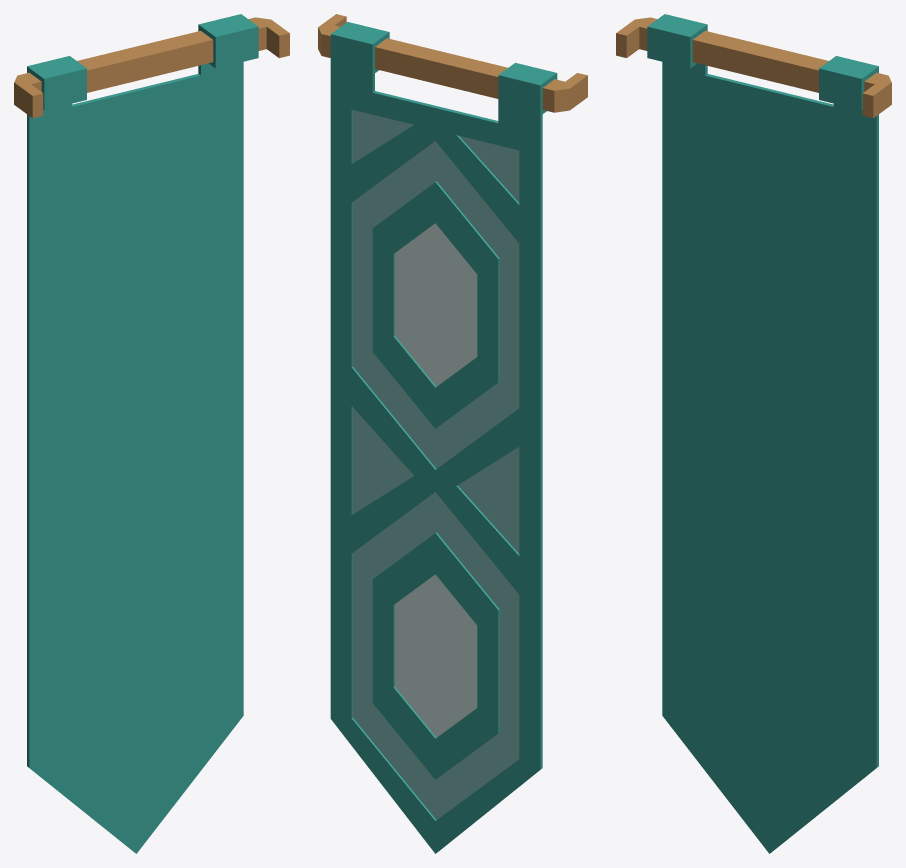
Rendered from Prop_Flag_3.fbx.
The picture shows the model from 3 angles, left to right: view 1: azimuth 30°, elevation 25°; view 2: azimuth 150°, elevation 25°; view 3: azimuth 330°, elevation 25°; orthographic projection. The views are drawn at different scales.
Parts seen in each view (by area): view 1: object2, object1; view 2: object2, object1; view 3: object2, object1.
Boxes of the visible parts, left/top/right/bottom form: object2: left=27, top=14, right=258, bottom=853; object1: left=14, top=17, right=289, bottom=118; object2: left=330, top=22, right=557, bottom=853; object1: left=318, top=14, right=587, bottom=112; object2: left=647, top=14, right=878, bottom=853; object1: left=616, top=17, right=891, bottom=118.
Bounding box in the file's own units: 0.54 × 1.63 × 0.099.
